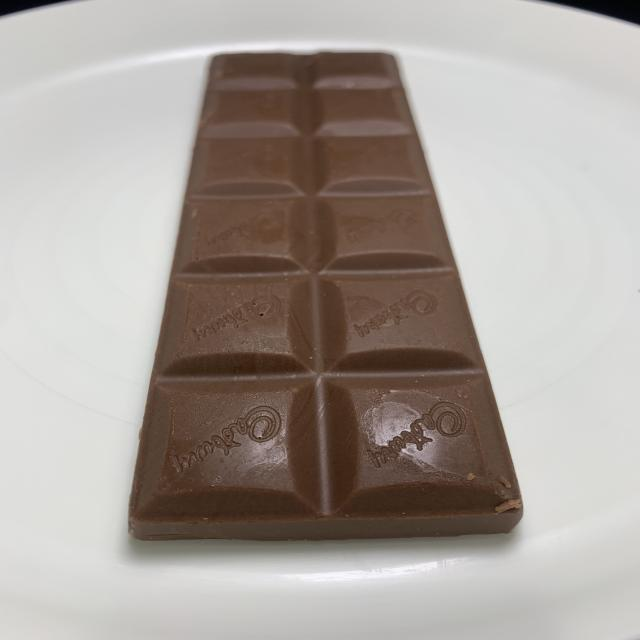chocolate: (129, 49, 527, 538)
